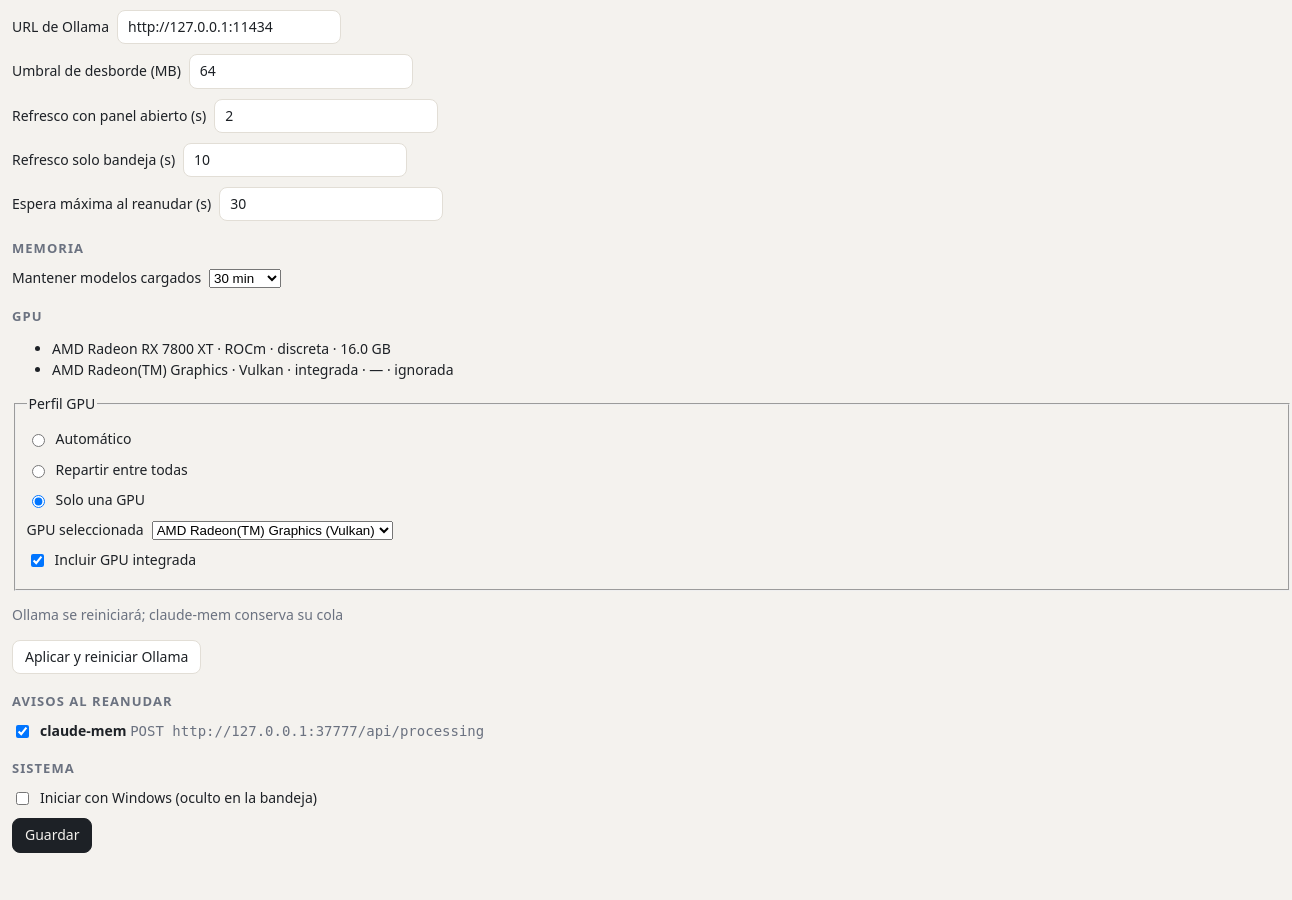
recupera un perfil GPU guardado y cancela la confirmación al modificarlo
Expected: the dropdown labelled "GPU seleccionada" shows "AMD Radeon(TM) Graphics (Vulkan)", [152, 521, 393, 540]
Expected: the radio button labelled "Solo una GPU" is checked, [32, 495, 44, 508]
Click the button "Aplicar y reiniciar Ollama".
click(107, 657)  # box [12, 640, 201, 674]
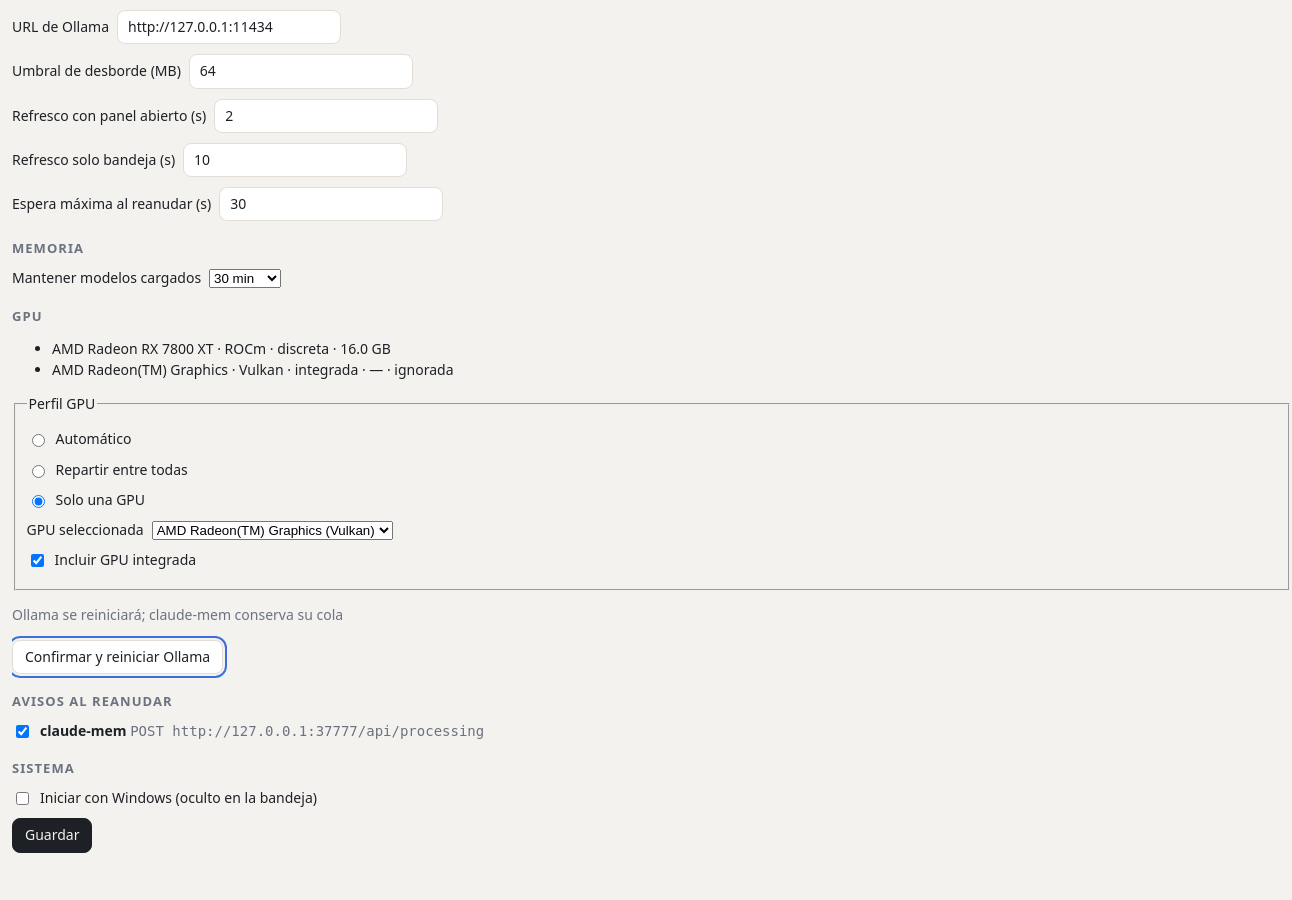
Click the radio button labelled "Automático".
click(38, 441)  # box [32, 434, 44, 447]
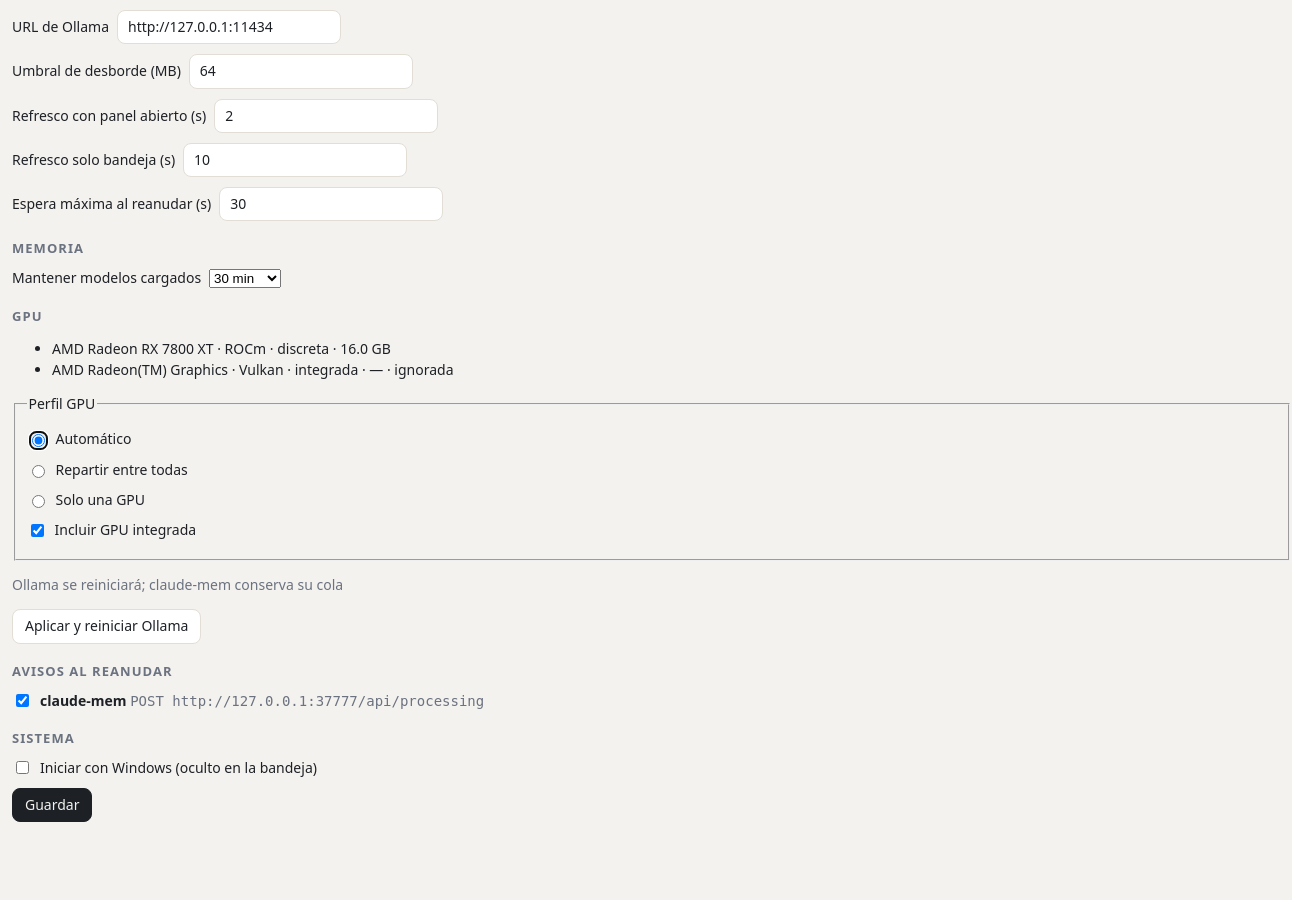
Expected: the button "Confirmar y reiniciar Ollama" is gone
